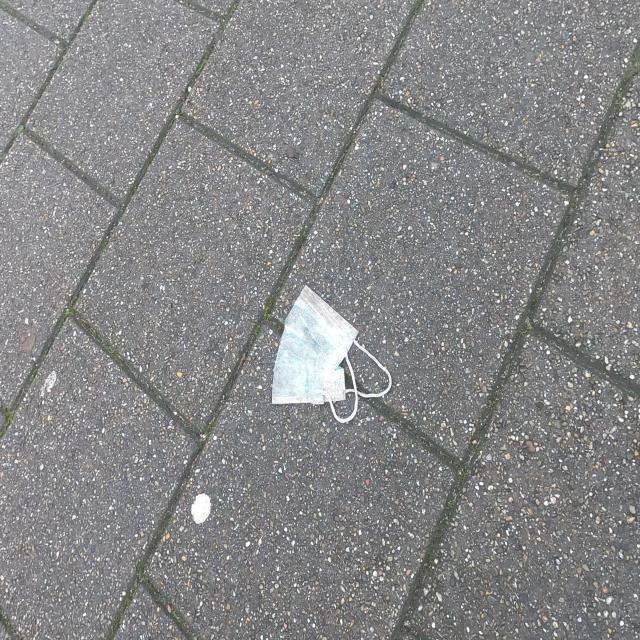Mask: (270, 278, 396, 422)
